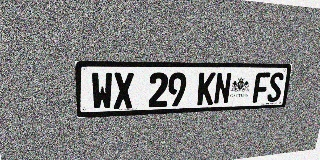2: (149, 72, 168, 107)
9: (167, 72, 187, 107)
F: (252, 72, 270, 103)
K: (197, 72, 216, 105)
N: (213, 72, 232, 104)
S: (266, 72, 284, 102)
W: (91, 72, 113, 110)
X: (113, 72, 134, 109)
